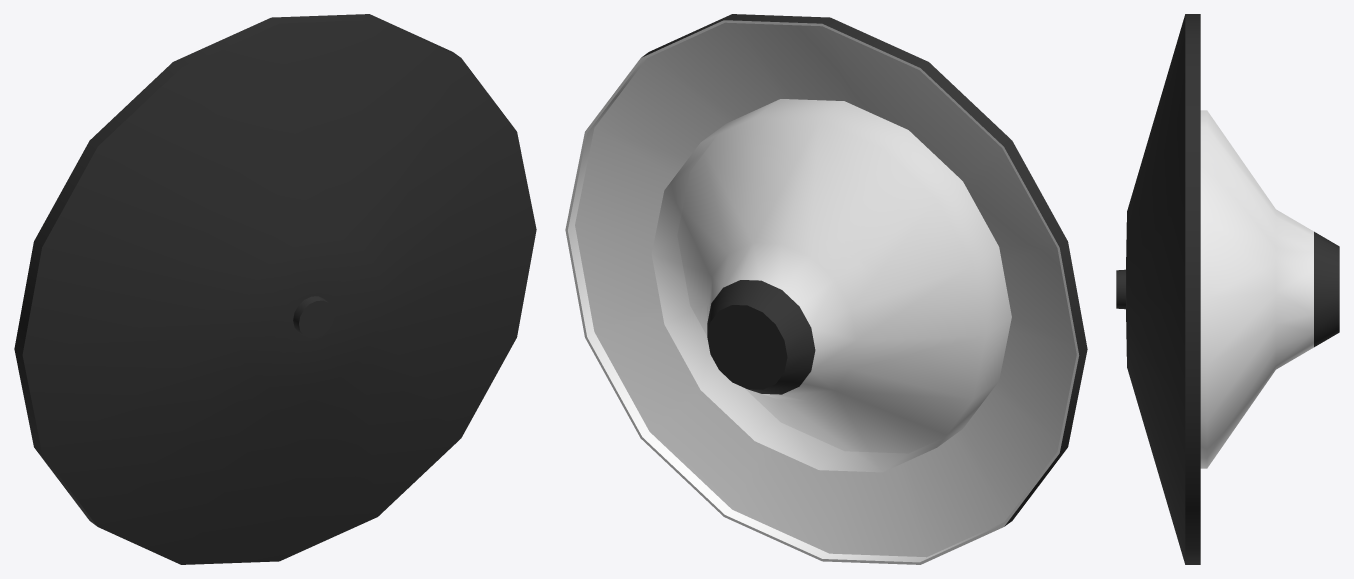
3 renders of one model, left to right at view 1: azimuth 30°, elevation 25°; view 2: azimuth 150°, elevation 25°; view 3: azimuth 270°, elevation 25°, orthographic. The views are drawn at different scales.
Parts seen in each view (by area): view 1: Indal_2020_BezierCurve.001; view 2: Indal_2020_BezierCurve.001, Indal_2020_Glas_BezierCurve.003; view 3: Indal_2020_BezierCurve.001, Indal_2020_Glas_BezierCurve.003.
Boxes of the visible parts, <box> form: Indal_2020_BezierCurve.001: <box>14,14,536,564</box>; Indal_2020_BezierCurve.001: <box>565,14,1087,564</box>; Indal_2020_Glas_BezierCurve.003: <box>651,99,1011,472</box>; Indal_2020_BezierCurve.001: <box>1116,14,1339,564</box>; Indal_2020_Glas_BezierCurve.003: <box>1200,110,1313,468</box>.
Bounding box in the file's own units: 0.8388 × 0.8388 × 0.34.
Materials: 3 (2 with a texture image).
